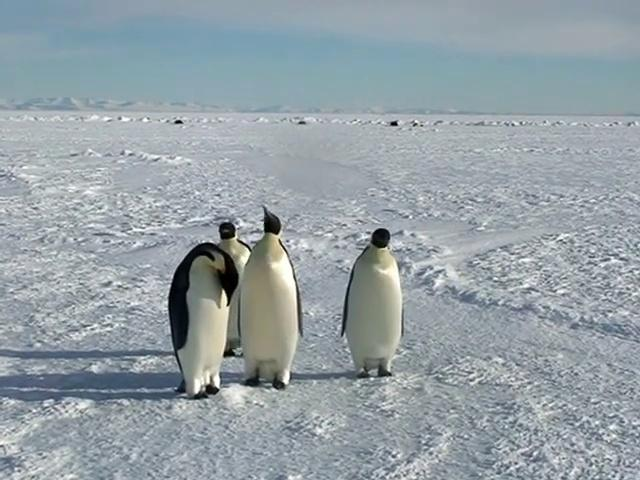animal: (342, 230, 405, 378)
